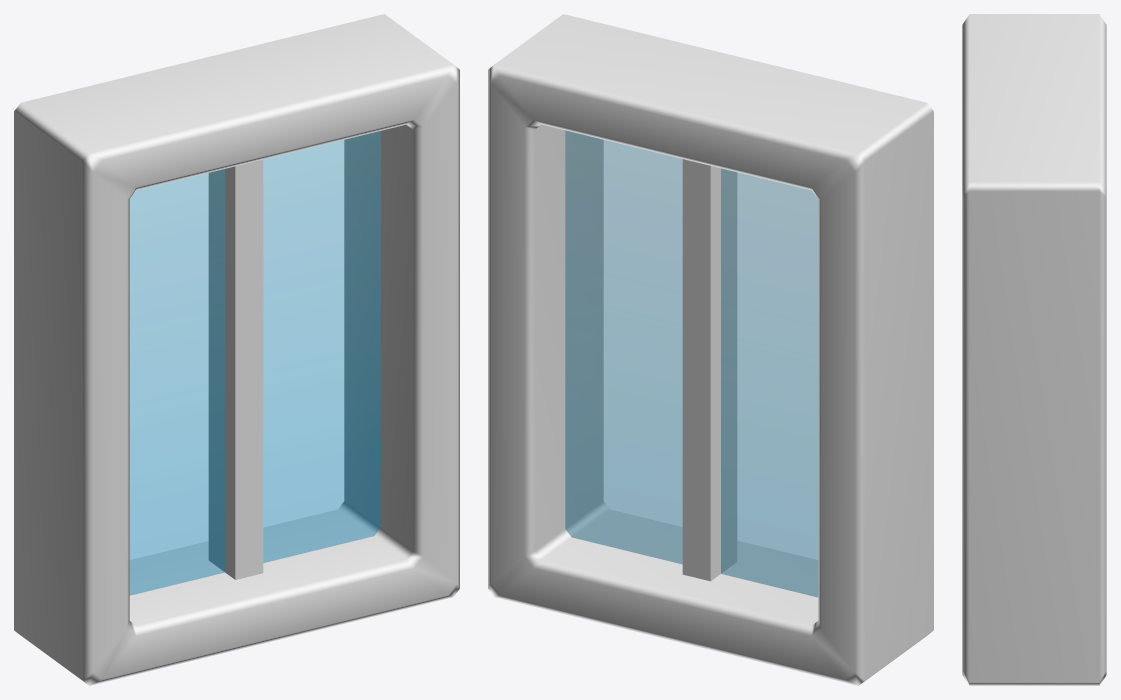
Rendered from Window_White_10.glb.
3 renders of one model, left to right at view 1: azimuth 30°, elevation 25°; view 2: azimuth 150°, elevation 25°; view 3: azimuth 270°, elevation 25°, orthographic. The views are drawn at different scales.
Parts seen in each view (by area): view 1: Window_White_10; view 2: Window_White_10; view 3: Window_White_10.
Boxes of the visible parts, box(x1,y1,x2,y2) form: Window_White_10: box(14, 14, 459, 685); Window_White_10: box(488, 14, 933, 685); Window_White_10: box(962, 14, 1106, 685).
Size of the model in its own units: 1.14 by 1.54 by 0.4.
2 materials, 2 textured.
